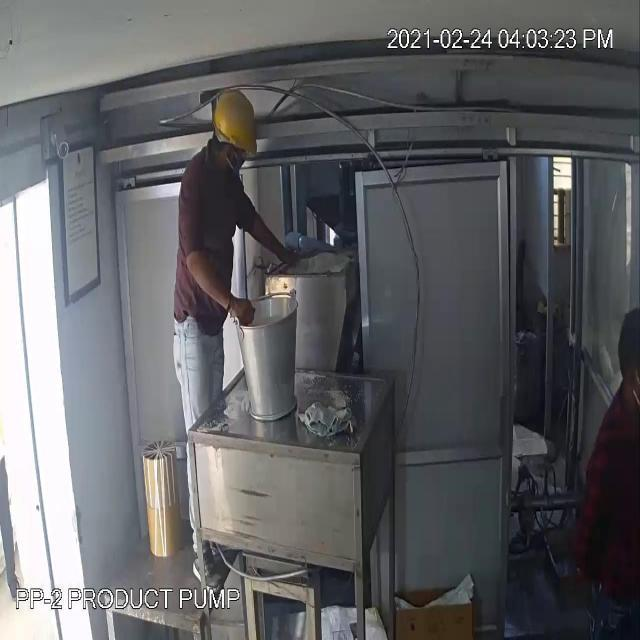hat: (211, 90, 267, 160)
